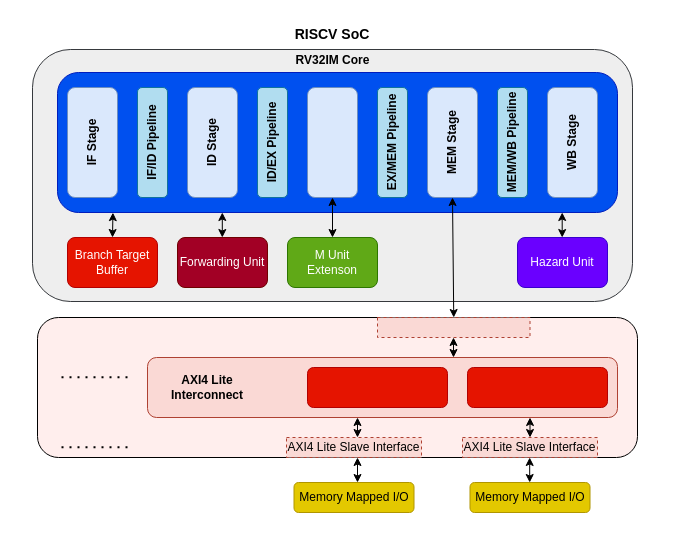
The diagram is 674 pixels wide and 544 high, and some of its shapes have lost their labels. The shapes that lost their labels are listed below. From the top down, each one's centre as x and y in pixels, then its label:
[332,142]: EX Stage
[453,327]: AXI4 Lite Master Interface
[377,387]: Routing Network
[537,387]: Address Decoder
